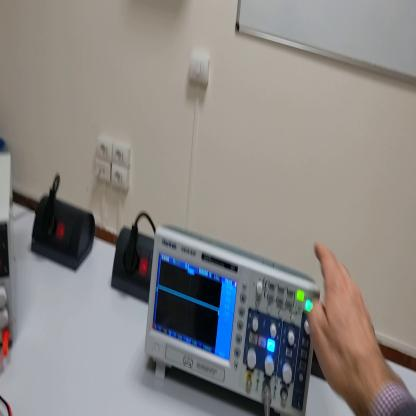hand: (306, 241, 384, 401)
oscilloscope: (144, 219, 321, 415)
power supply: (2, 145, 18, 353)
socket: (29, 193, 98, 272), (112, 225, 155, 305)
